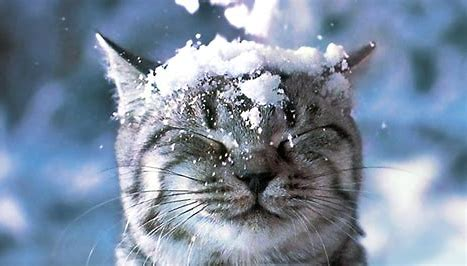cat: (85, 25, 402, 264)
